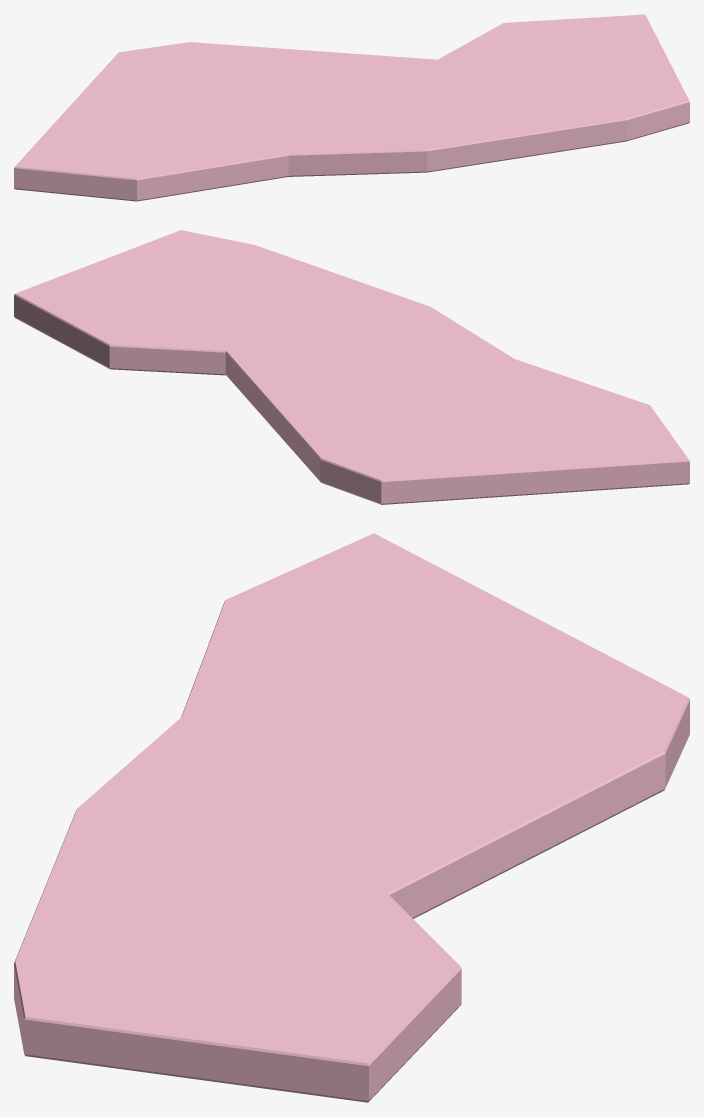
File: SLV.glb
3 views of the same model, one above another, from view 1: azimuth 30°, elevation 25°; view 2: azimuth 150°, elevation 25°; view 3: azimuth 270°, elevation 25° (orthographic). The views are drawn at different scales.
Size of the model in its own units: 1.96 by 0.068 by 1.06.
